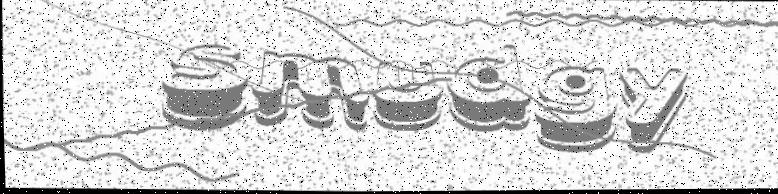d: (441, 38, 533, 139)
g: (532, 63, 620, 151)
m: (249, 42, 371, 136)
s: (157, 38, 252, 130)
u: (369, 55, 445, 134)
y: (615, 65, 689, 153)
